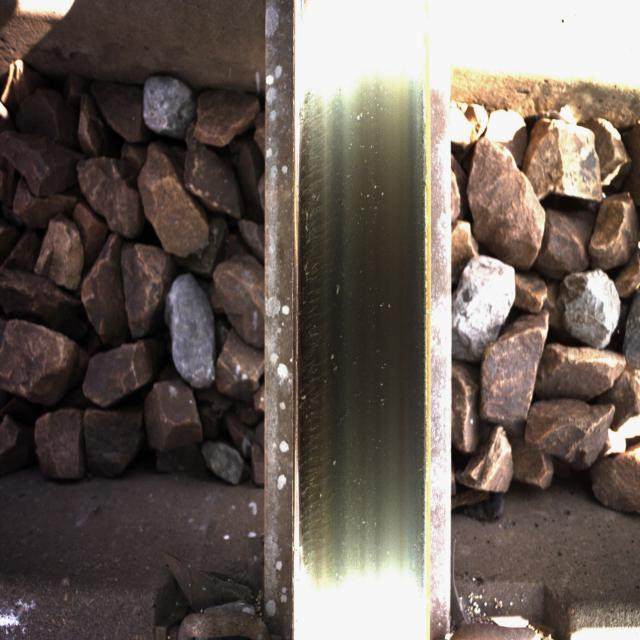break: (296, 39, 404, 605)
